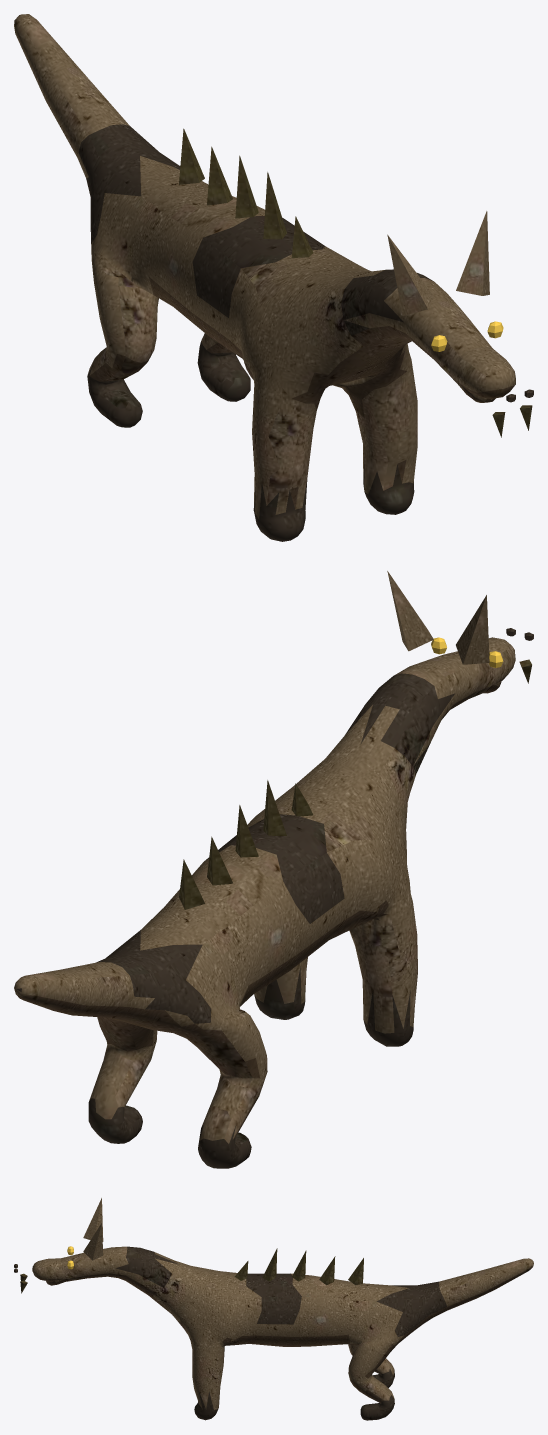
The model's file is mon_sp_wolf.glb.
3 views of the same model, one above another, from view 1: azimuth 30°, elevation 25°; view 2: azimuth 150°, elevation 25°; view 3: azimuth 270°, elevation 25° (orthographic). The views are drawn at different scales.
Parts seen in each view (by area): view 1: mon_sp_wolf; view 2: mon_sp_wolf; view 3: mon_sp_wolf.
Part boxes in pixels (x1,y1,x2,y2): mon_sp_wolf: (14,14,533,541); mon_sp_wolf: (14,571,533,1168); mon_sp_wolf: (14,1198,533,1420).
Size of the model in its own units: 0.3244 by 0.7447 by 1.79.
5 materials, 4 textured.
